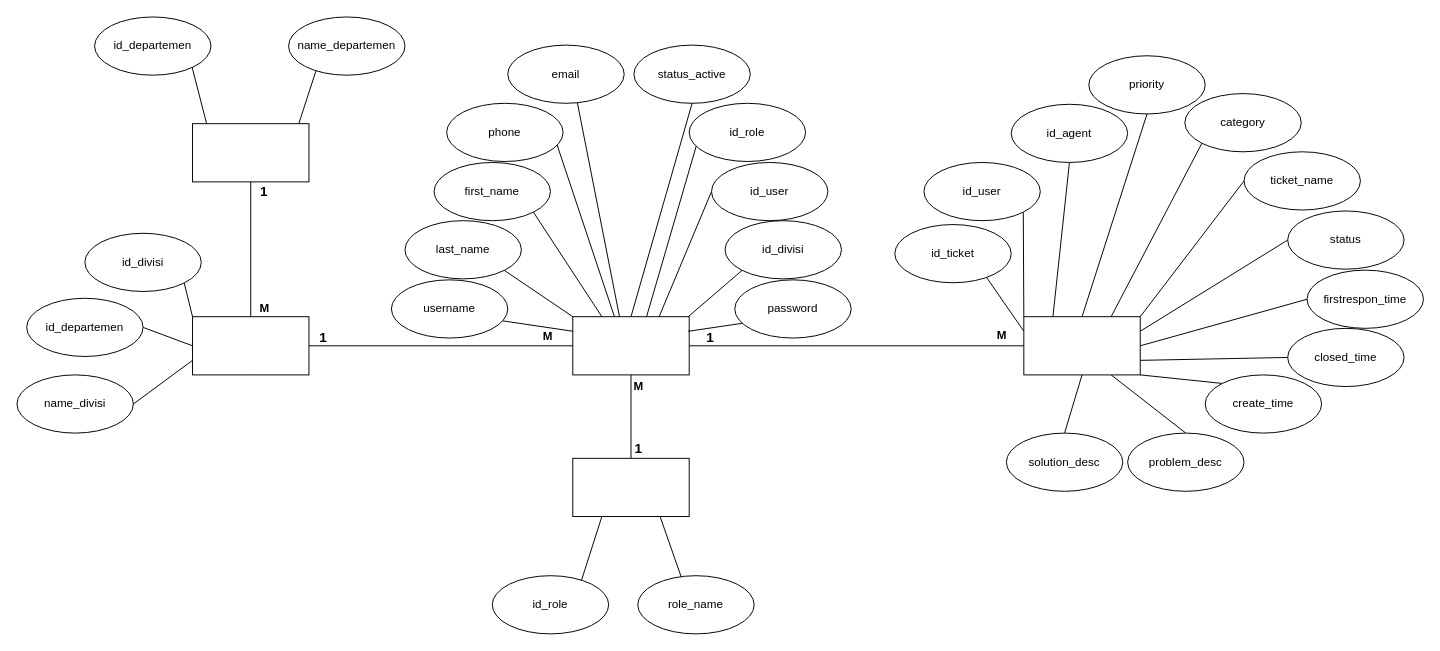
This 1440x651 diagram has some shape labels left out. The shapes that lost their labels are listed below. From the top down, each one's box as (x1, y1, x2, y2) in pixels, then its label:
(192, 123, 309, 182): departemen
(192, 316, 309, 375): divisi
(572, 316, 689, 375): user
(1023, 316, 1140, 375): ticket
(572, 457, 689, 517): role
